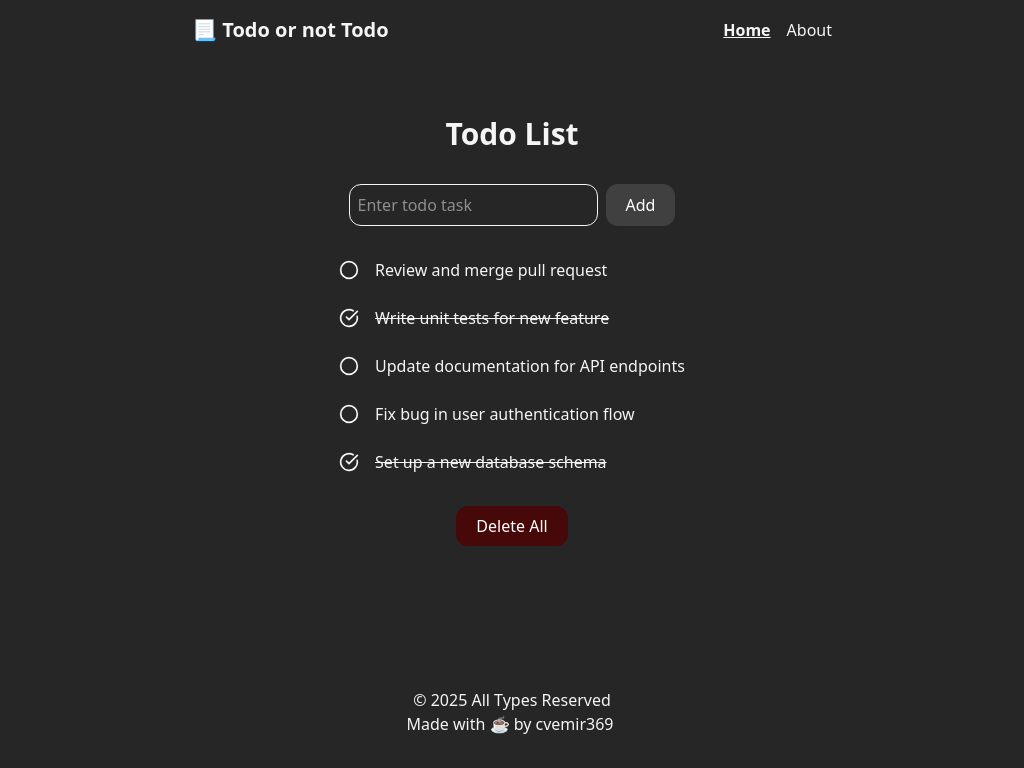
Test: todo items › should delete a todo item
The width and height of the screenshot is (1024, 768).
Step 1. Type "New Todo Item" into the field with placeholder "Enter todo task" → (474,205), box [349,184,598,226]
Then press Enter
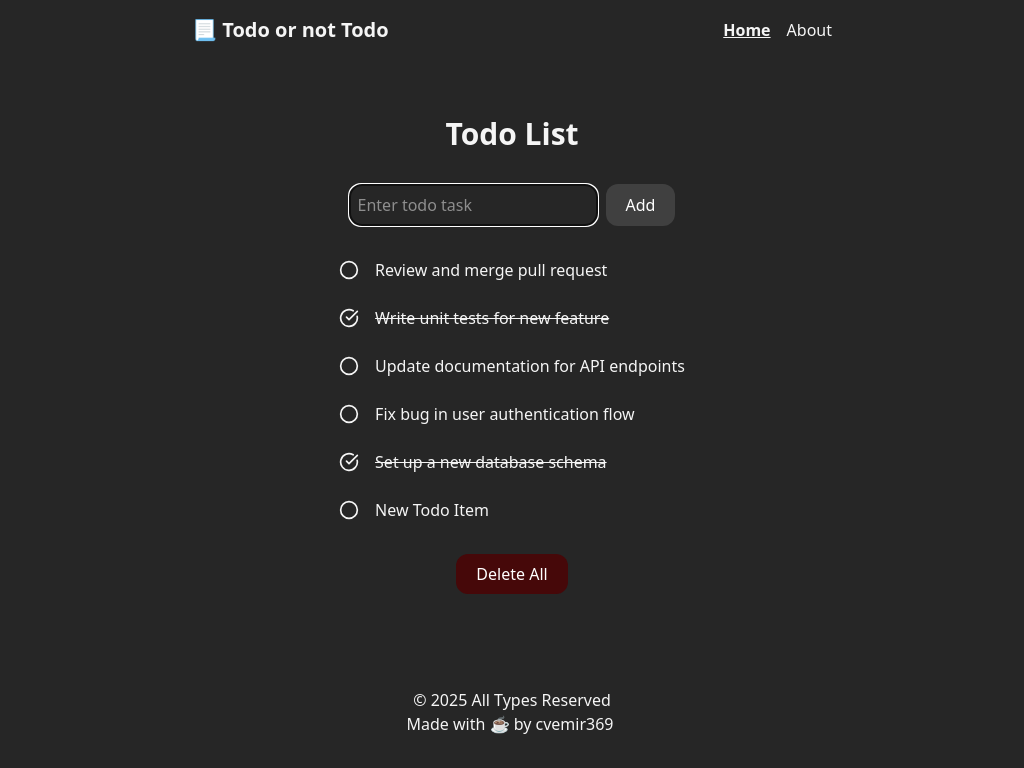
Step 2. Click the text "New Todo Item" → (432,510), box [375,498,489,522]
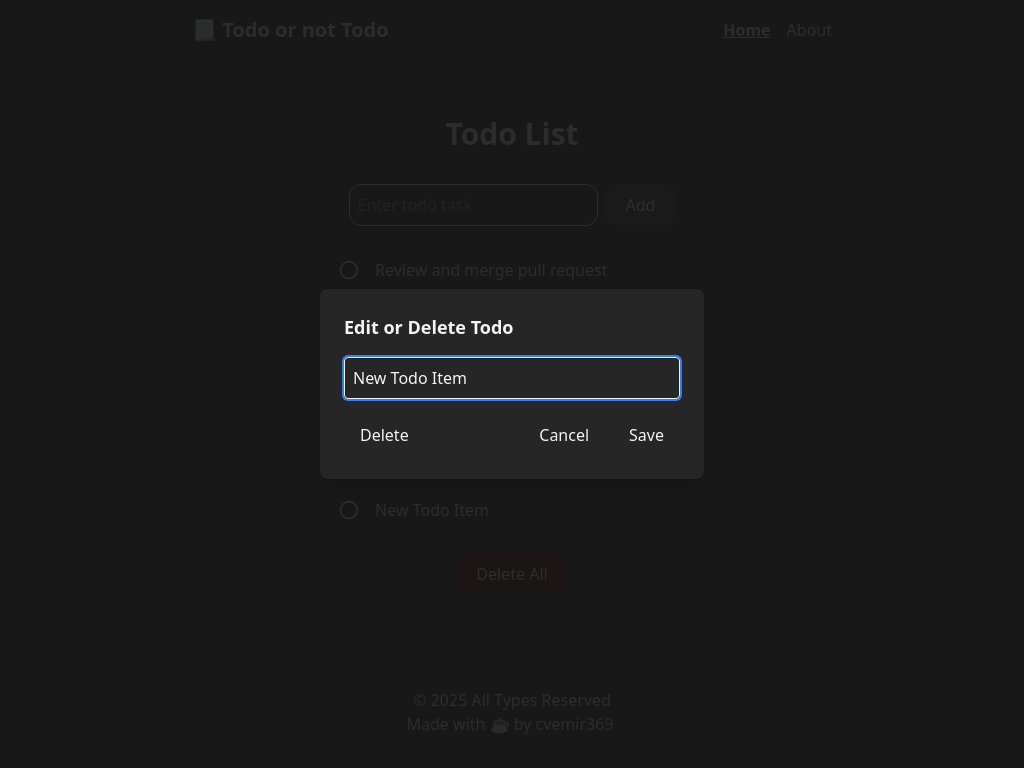
Step 3. Click the button "Delete" → (385,435), box [344,415,425,455]
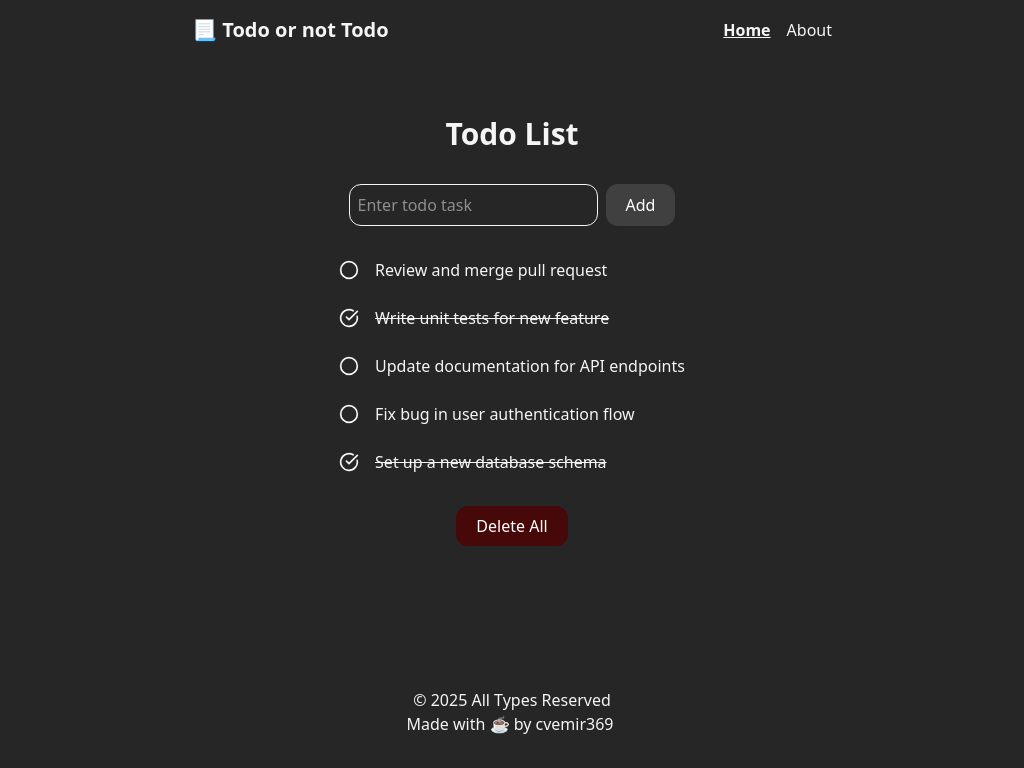
Expected: the text "New Todo Item" is gone
